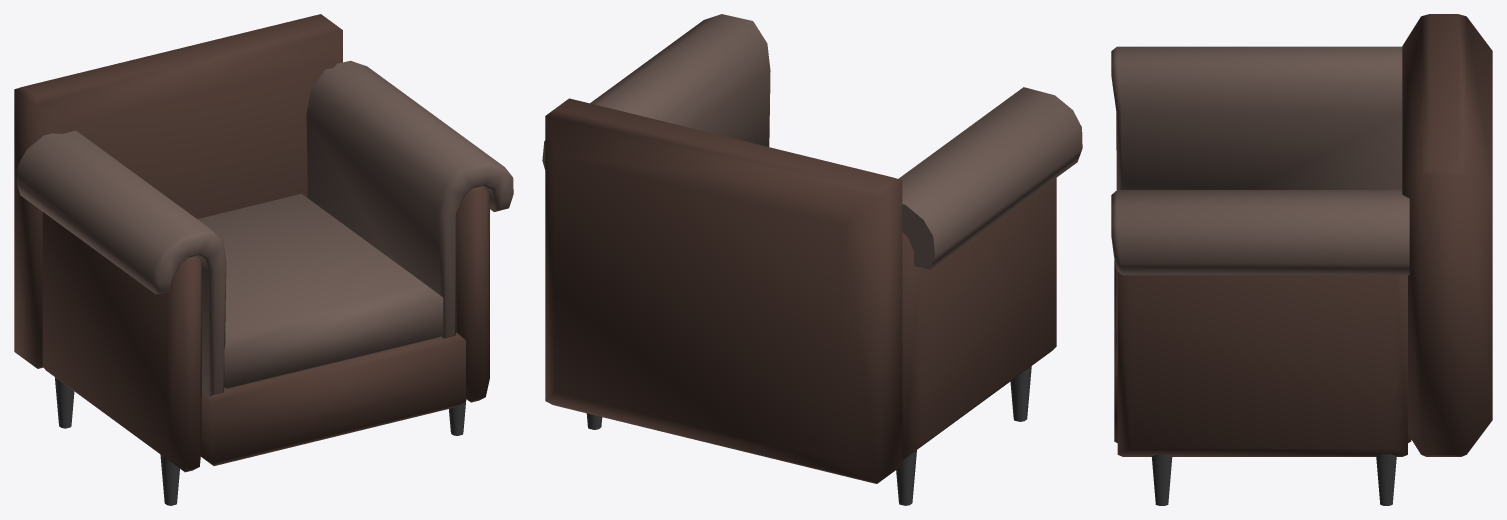
The model's file is armchair005.glb.
The picture shows the model from 3 angles, left to right: view 1: azimuth 30°, elevation 25°; view 2: azimuth 150°, elevation 25°; view 3: azimuth 270°, elevation 25°; orthographic projection. The views are drawn at different scales.
Parts seen in each view (by area): view 1: armchair.005; view 2: armchair.005; view 3: armchair.005.
Boxes of the visible parts, bbox=[...] form: armchair.005: bbox=[14, 14, 513, 505]; armchair.005: bbox=[542, 14, 1082, 505]; armchair.005: bbox=[1111, 14, 1492, 505].
Size of the model in its own units: 1.05 by 0.8828 by 0.907.
1 material, 1 textured.
